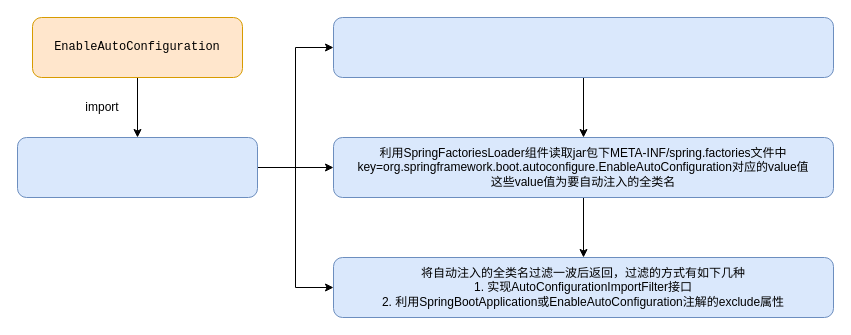
The diagram is 851 pixels wide and 335 high, and some of its shapes have lost their labels. The centre of each missing label's shape, as x and y in pixels:
AutoConfigurationImportSelector 返回需要注入容器中class全类名: the point at 137,167
是否开启自动配置，默认开启: the point at 583,47
